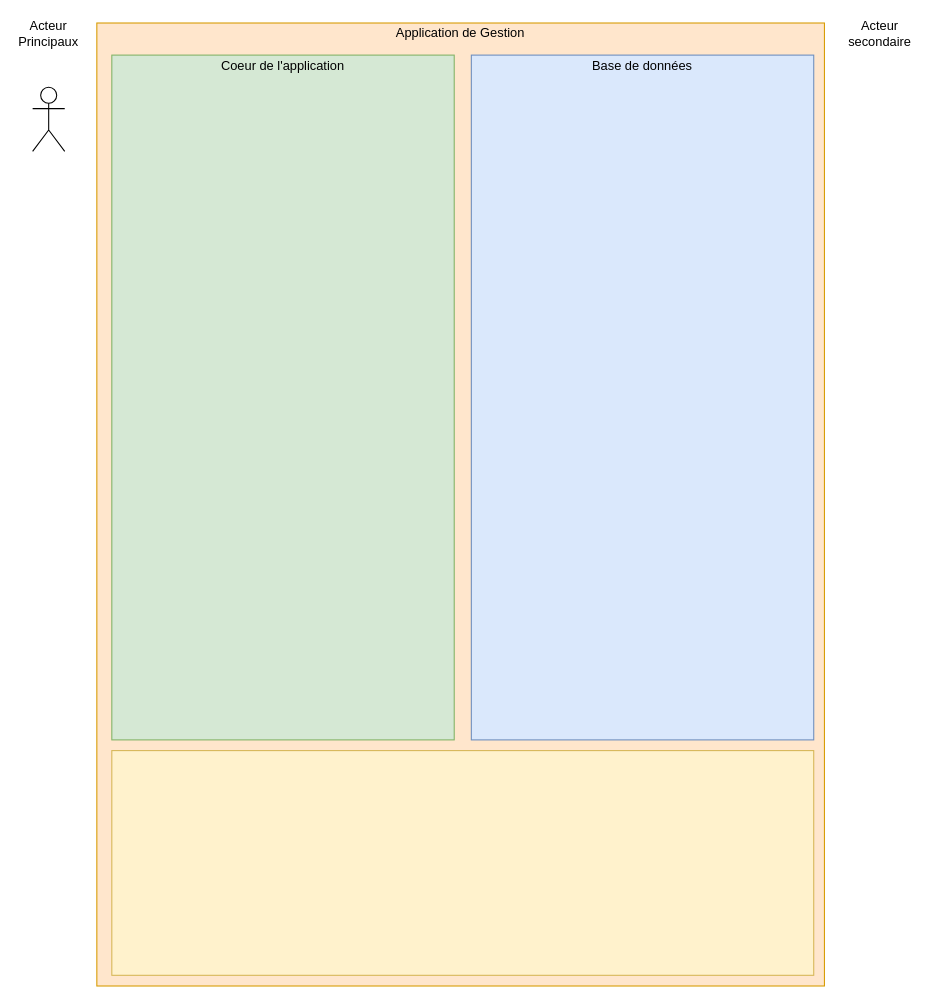
Image size: 930x1005. Some labels were removed from this diagram. The shapes that lost their labels are listed below. From the top down, each one's centre as x and y in pixels, then its label:
At (x=48, y=118): "Utilisateur".
At (x=462, y=862): "Entrée/Sorties".
